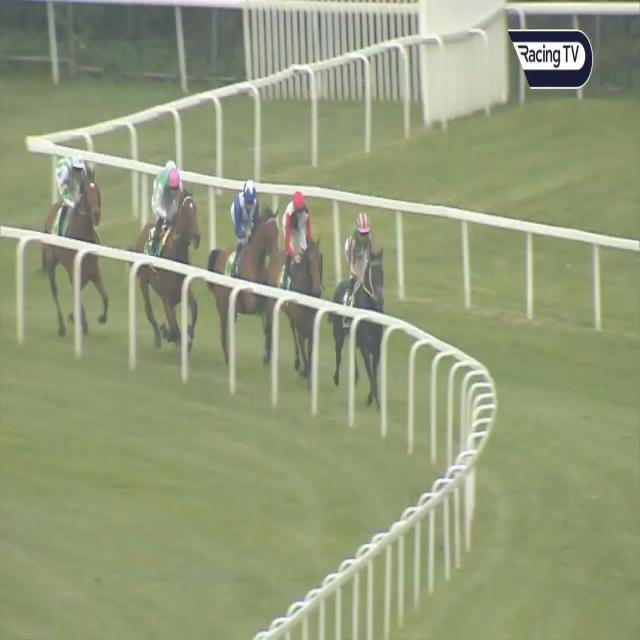horses-racing: (136, 162, 198, 349), (210, 180, 274, 358), (46, 148, 104, 340), (334, 213, 386, 392), (278, 191, 325, 372)
